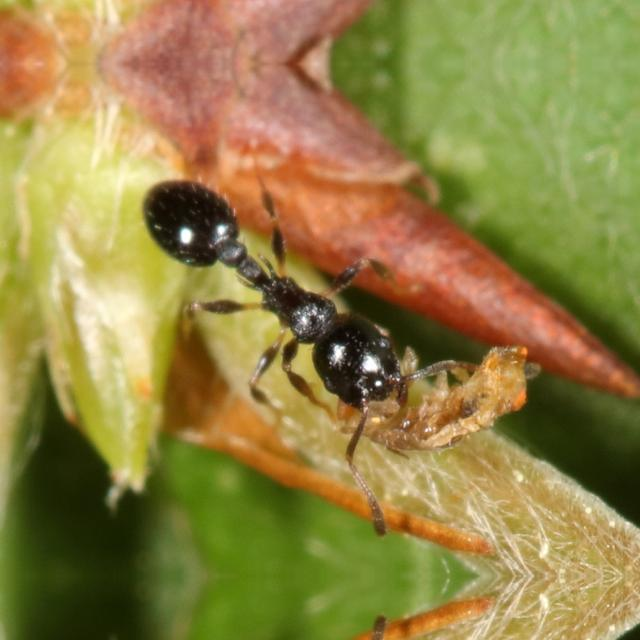Temnothorax: (146, 170, 468, 456)
